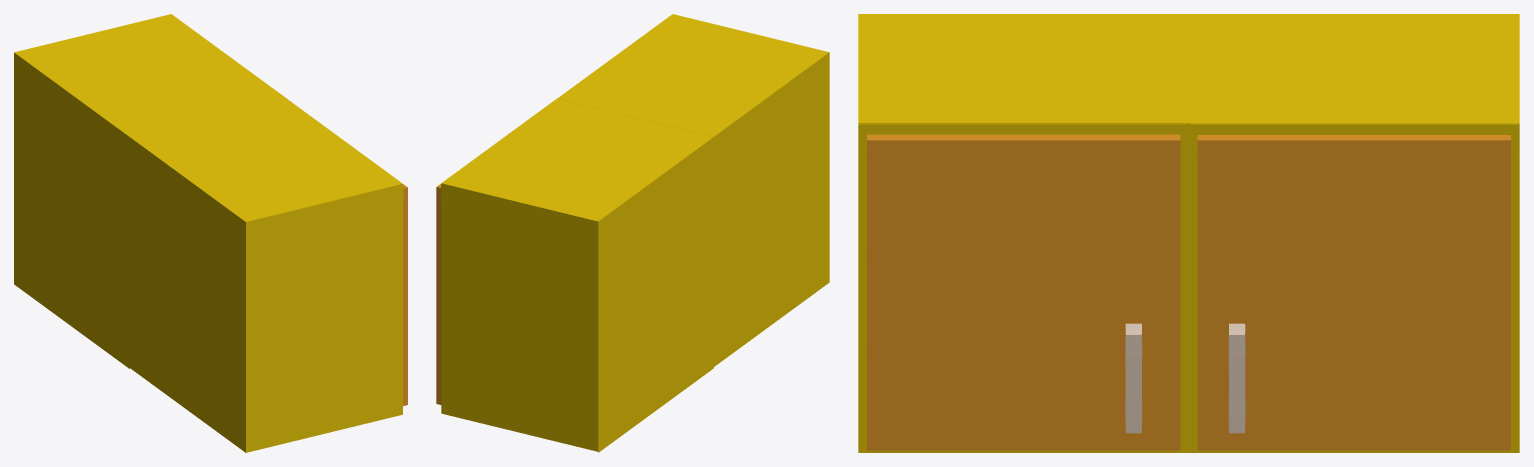
File: Kitchen wall cuboard.fbx
The picture shows the model from 3 angles, left to right: view 1: azimuth 30°, elevation 25°; view 2: azimuth 150°, elevation 25°; view 3: azimuth 270°, elevation 25°; orthographic projection. The views are drawn at different scales.
Parts seen in each view (by area): view 1: Cubourd Base.003, Cubourd Base.002; view 2: Cubourd Base.002, Cubourd Base.003; view 3: Cubourd Base.003, Cubourd Base.002, Cubourd Handle 1.001, Cubourd Handle 1.003.
Part boxes in pixels (x1,y1,x2,y2): Cubourd Base.003: (130,99,407,452); Cubourd Base.002: (14,14,286,368); Cubourd Base.002: (436,98,713,452); Cubourd Base.003: (557,14,829,366); Cubourd Base.003: (858,14,1188,452); Cubourd Base.002: (1189,14,1519,452); Cubourd Handle 1.001: (1228,323,1245,433); Cubourd Handle 1.003: (1125,323,1142,433).
Bounding box in the file's own units: 87.06 × 106 × 193.
